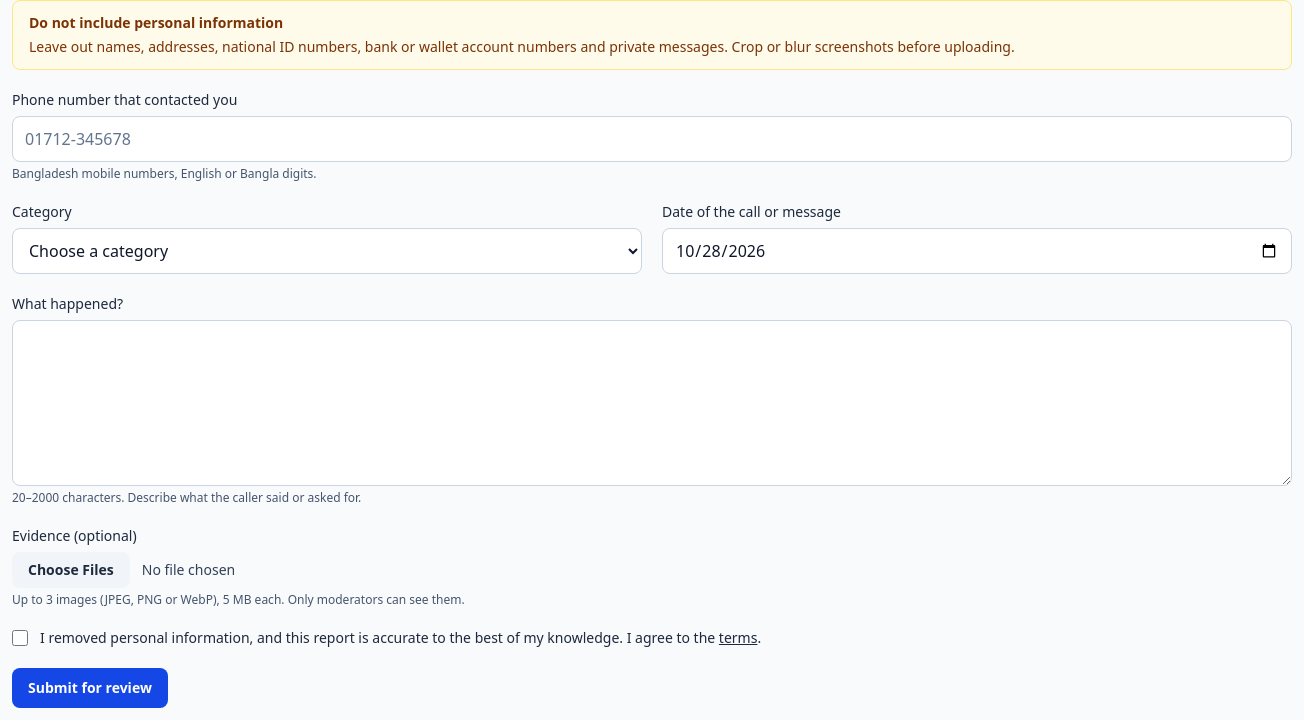
Scenario: ReportForm › shows the server error when submission is refused
Expected: the dropdown labelled "Category" is shown, [12,228,642,274]
Type "০১৭১২-৩৪৫৬৭৮" into the field labelled "Phone number that contacted you" at (652, 139), box [12,116,1292,162]
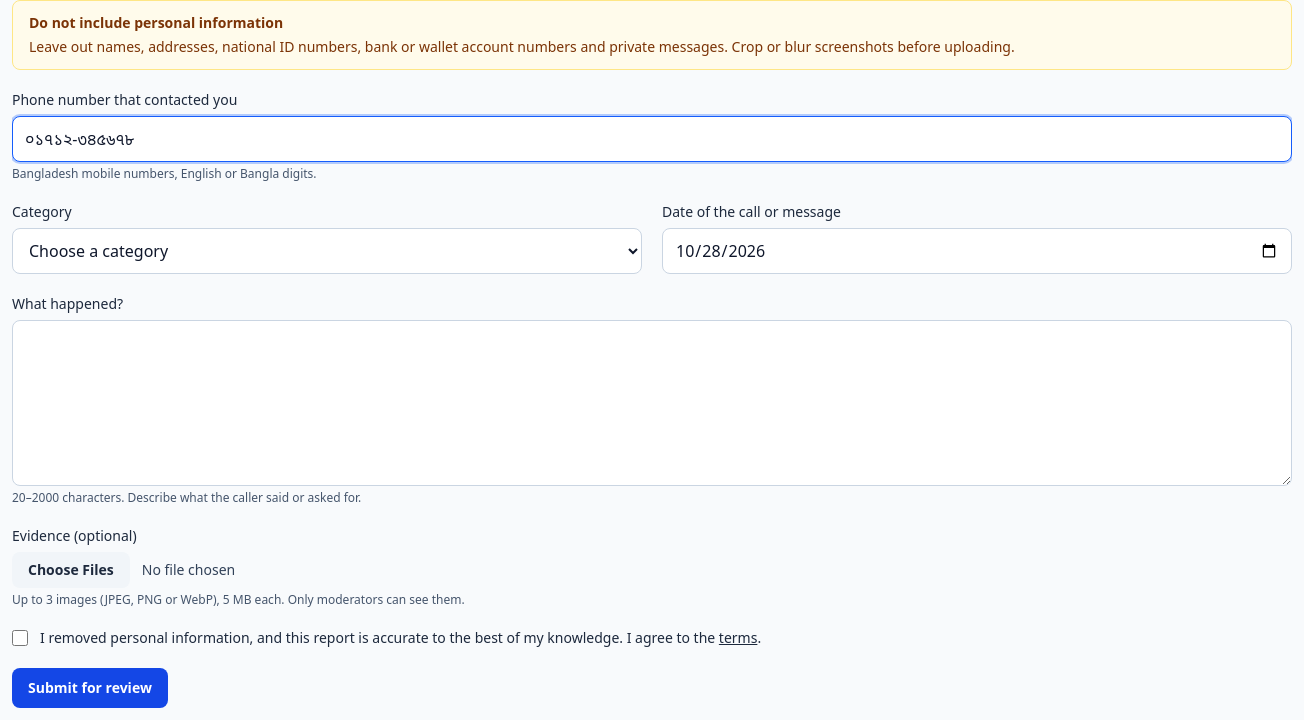
Select "Banking & Phishing Scam" in the dropdown labelled "Category" at (327, 251), box [12,228,642,274]
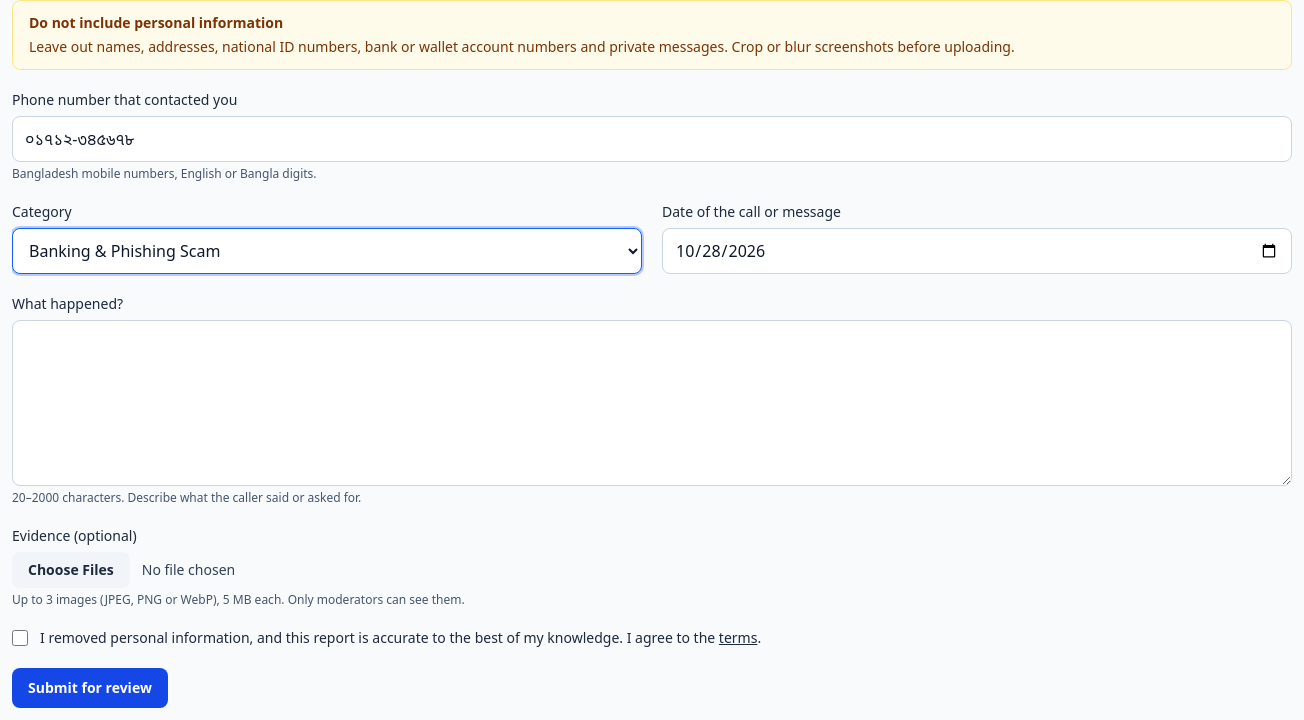
Type "Caller asked for my card number and OTP." into the text box labelled "What happened?" at (652, 403), box [12,320,1292,486]
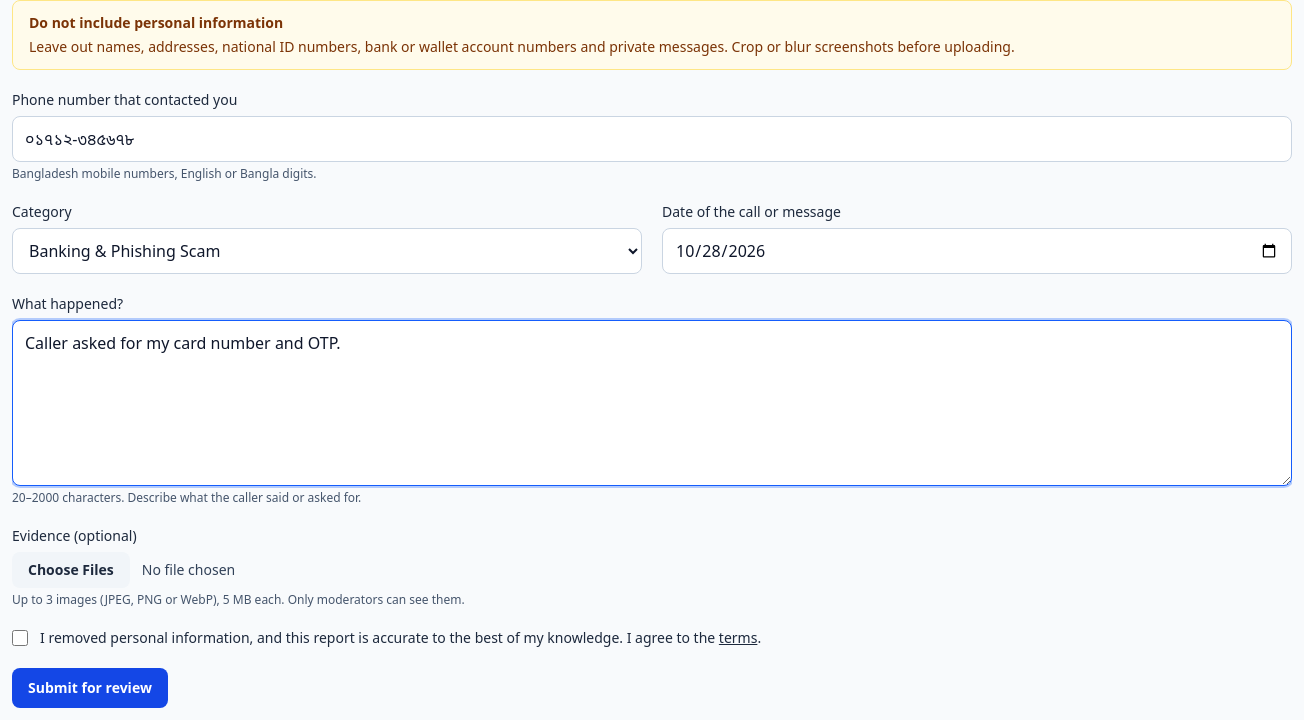
Click the checkbox at (20, 638), box [12,630,28,646]
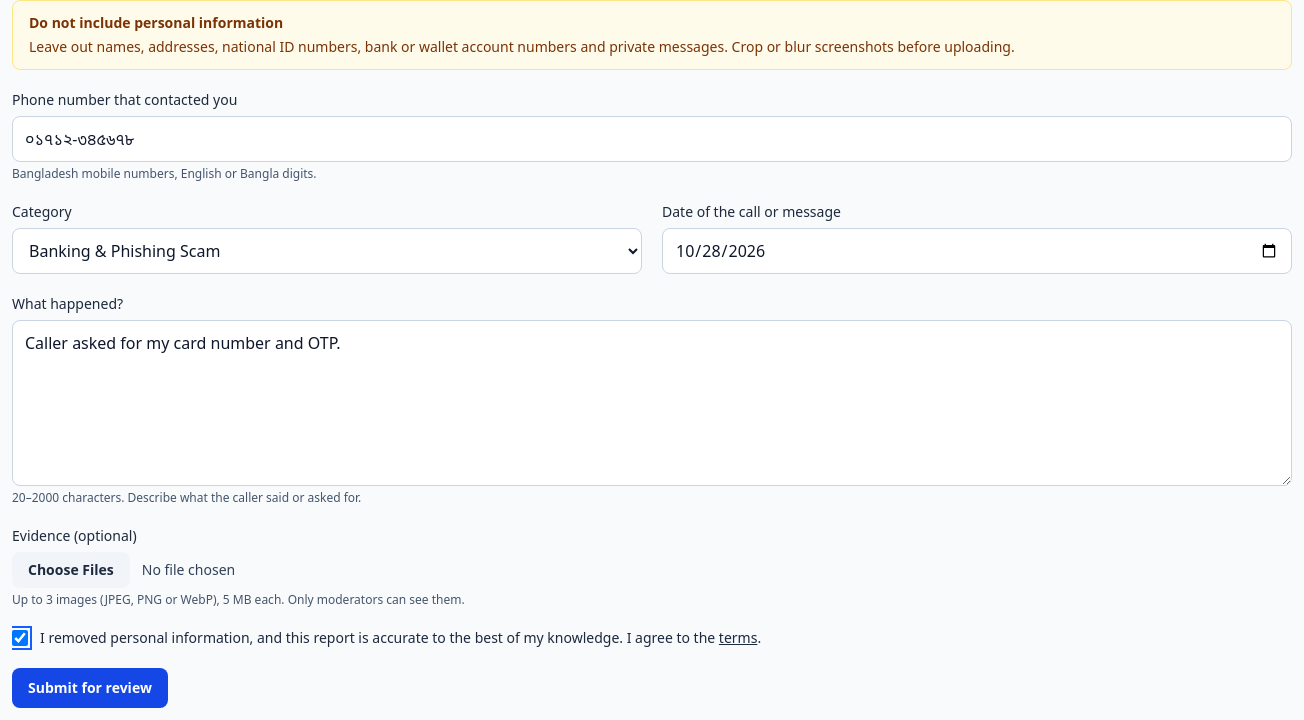
Click the button "Submit for review" at (90, 688), box [12,668,168,708]
(page scrolled)
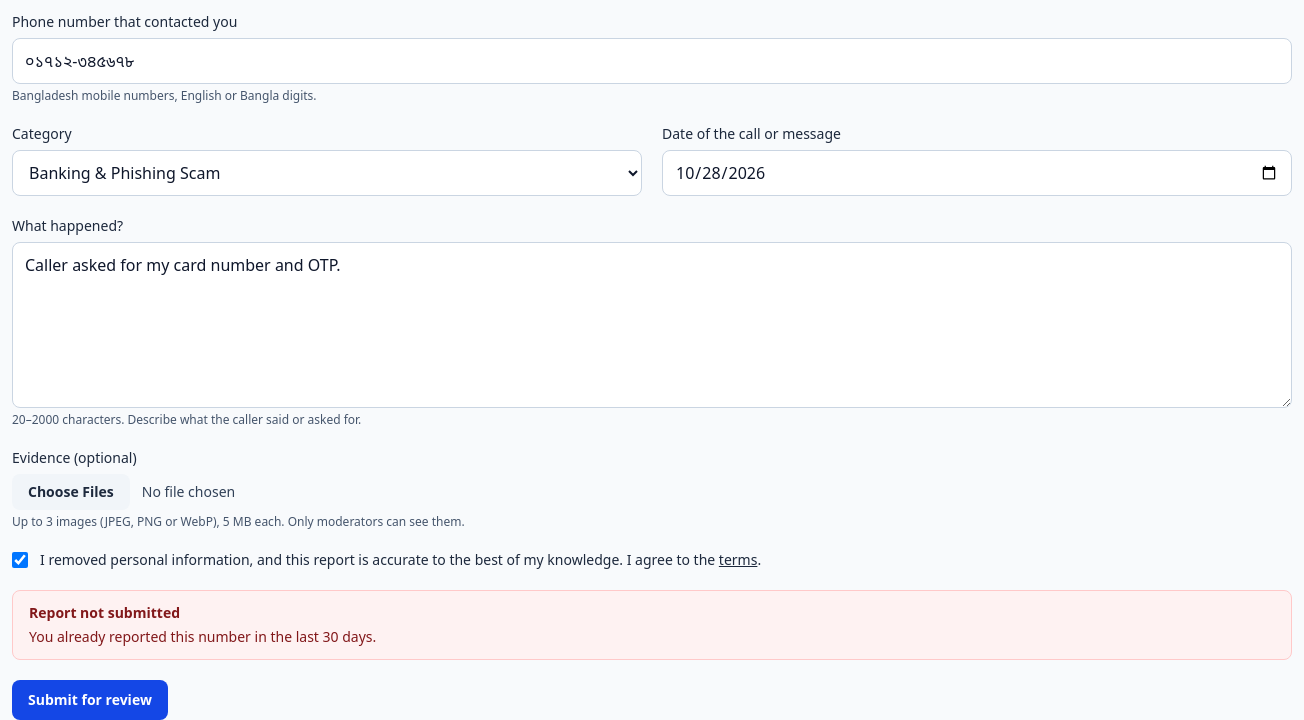
Result: the text "You already reported this number in the last 30 days." is shown at [29,627,376,646]
